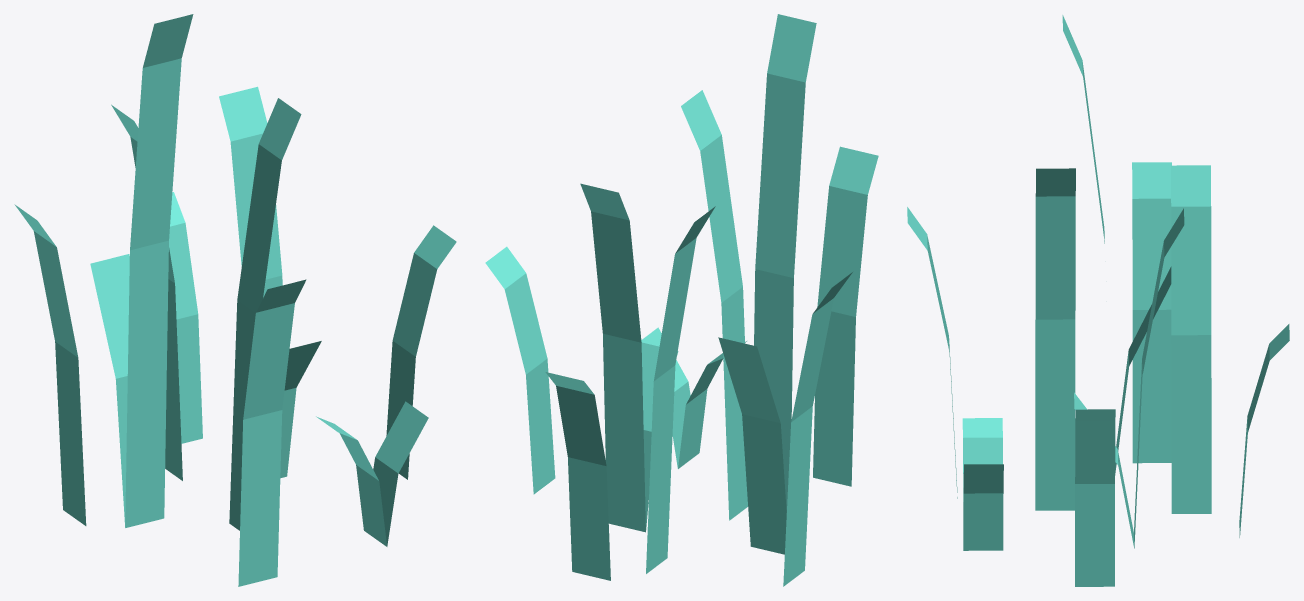
File: grass.glb
3 views of the same model, side by side, from view 1: azimuth 30°, elevation 25°; view 2: azimuth 150°, elevation 25°; view 3: azimuth 270°, elevation 25° (orthographic). The views are drawn at different scales.
Visible parts, largest first — view 1: grass.006; view 2: grass.006; view 3: grass.006.
Part boxes in pixels (bbox=[...]): grass.006: bbox=[14, 14, 456, 586]; grass.006: bbox=[485, 14, 878, 586]; grass.006: bbox=[907, 15, 1289, 586].
Bounding box in the file's own units: 0.3284 × 0.4248 × 0.3194.
